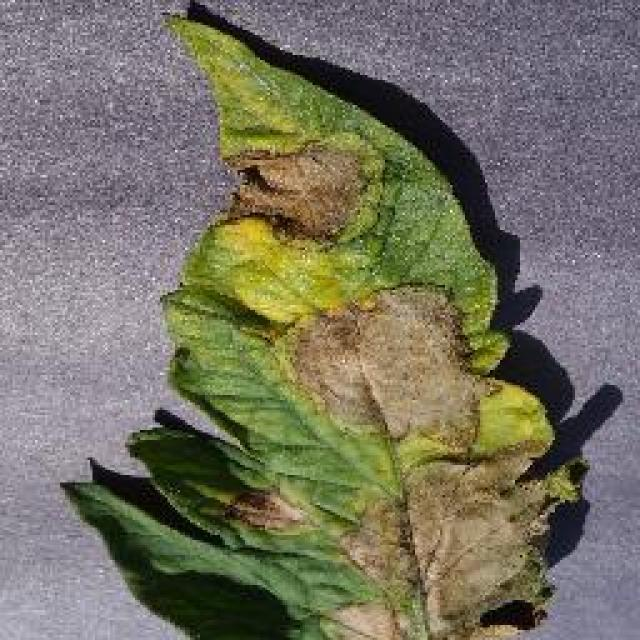Tomato Late Blight: (205, 102, 597, 640)
